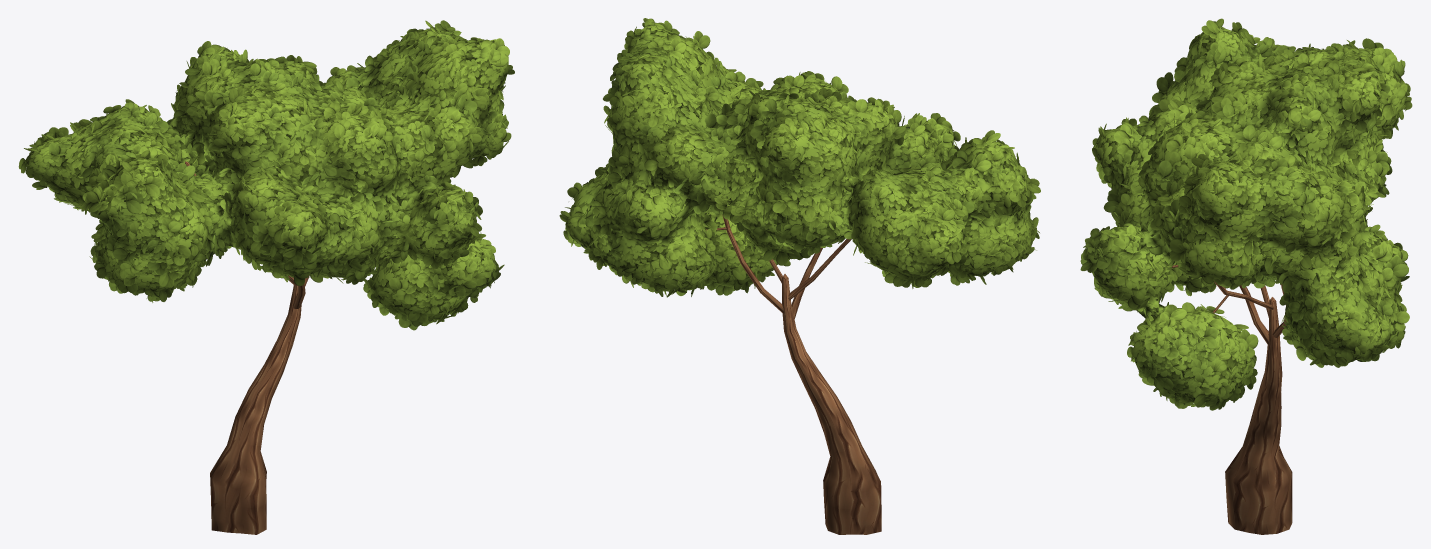
Rendered from acacia_v2.gltf.
3 renders of one model, left to right at view 1: azimuth 30°, elevation 25°; view 2: azimuth 150°, elevation 25°; view 3: azimuth 270°, elevation 25°, orthographic. The views are drawn at different scales.
Visible parts, largest first — view 1: acacia_v2_leaves_LOD0, acacia_v2_volume_LOD0, acacia_v2_trunk_LOD0; view 2: acacia_v2_leaves_LOD0, acacia_v2_volume_LOD0, acacia_v2_trunk_LOD0; view 3: acacia_v2_leaves_LOD0, acacia_v2_volume_LOD0, acacia_v2_trunk_LOD0.
Part boxes in pixels (x1,y1,x2,y2): acacia_v2_leaves_LOD0: (18,20,514,330); acacia_v2_volume_LOD0: (24,29,508,319); acacia_v2_trunk_LOD0: (185,161,309,534); acacia_v2_leaves_LOD0: (559,18,1040,297); acacia_v2_volume_LOD0: (565,25,1032,289); acacia_v2_trunk_LOD0: (706,214,881,534); acacia_v2_leaves_LOD0: (1080,18,1412,410); acacia_v2_volume_LOD0: (1086,28,1406,402); acacia_v2_trunk_LOD0: (1172,265,1292,534).
Size of what is drawn, in the model's own units: 9.1 by 9.03 by 5.85.
Materials: 3 (3 with a texture image).
